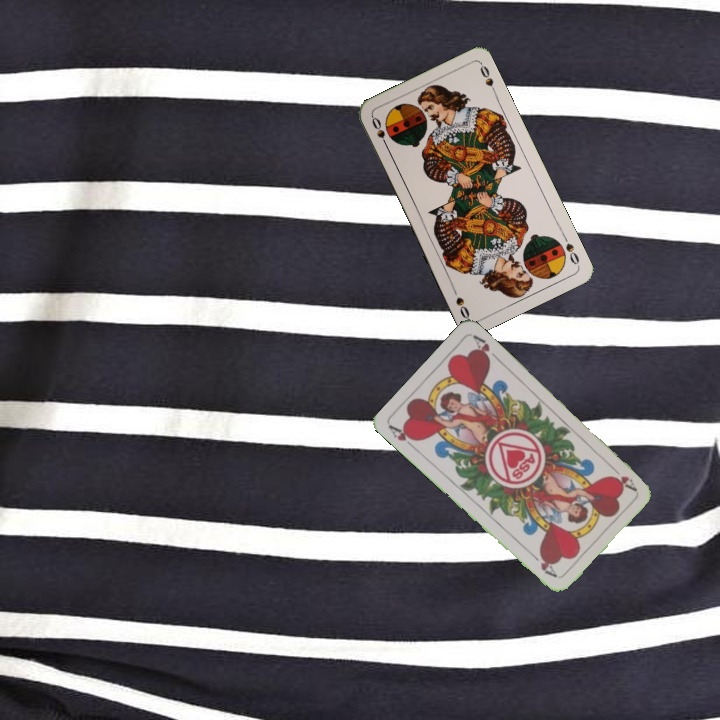HA: (385, 421, 420, 452), (606, 461, 639, 493)
SO: (368, 113, 391, 151), (559, 230, 582, 268)
